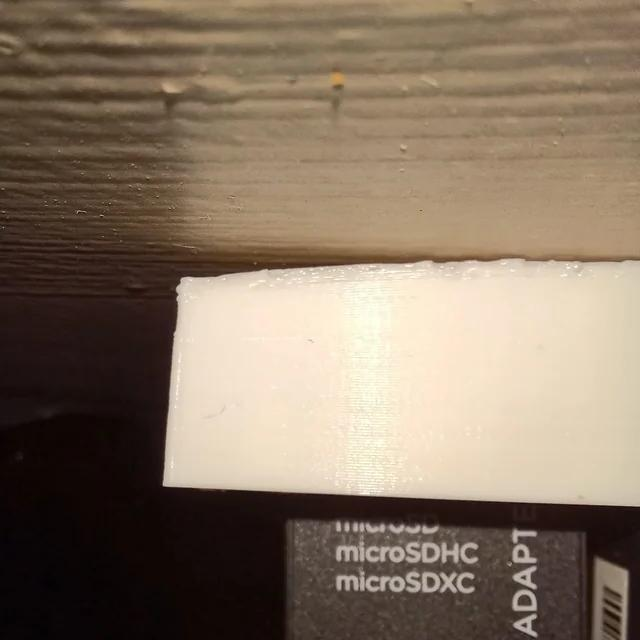Warping: (176, 248, 370, 298)
